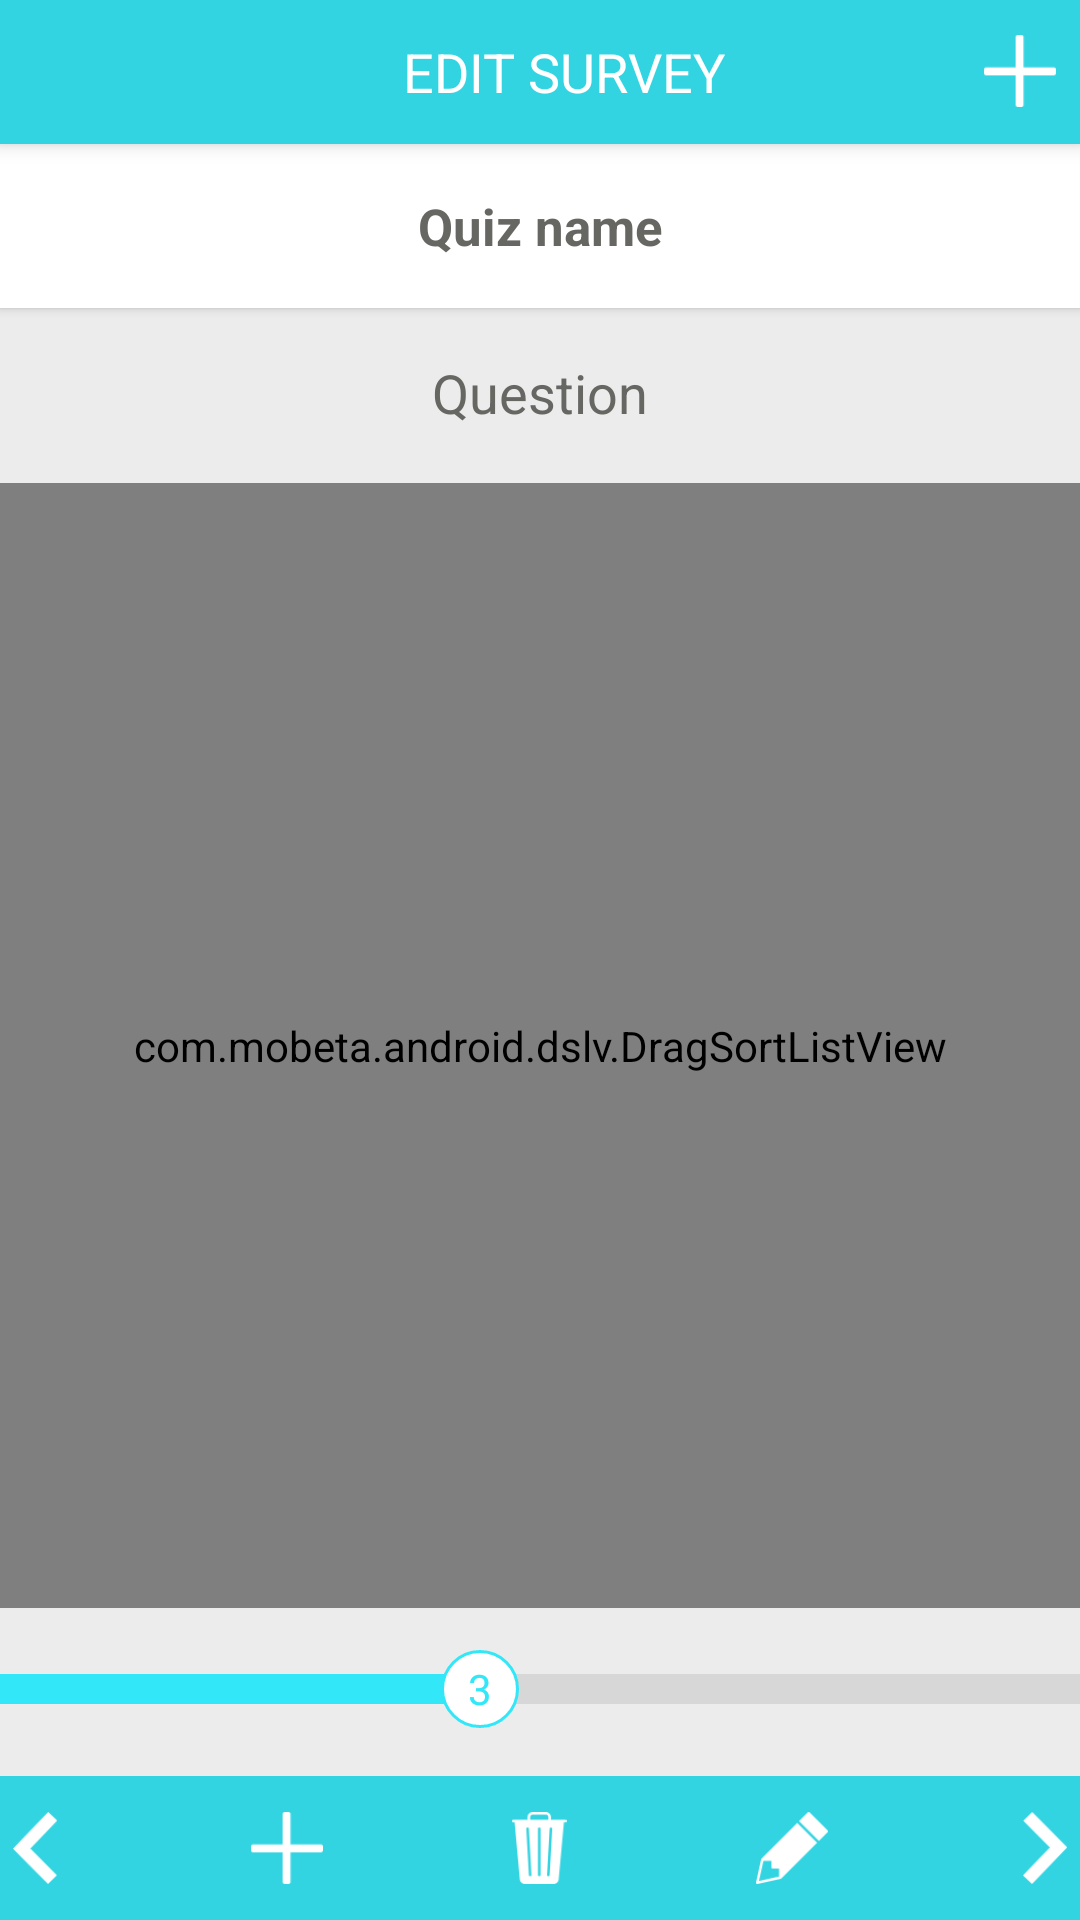

Icons on this 1080px x 1920px Android screen, each with the point to tap as [x,y]:
back: [35,1848]
delete menu: [539,1848]
edit menu: [792,1848]
next: [1045,1848]
plus: [1020,71], [287,1848]
